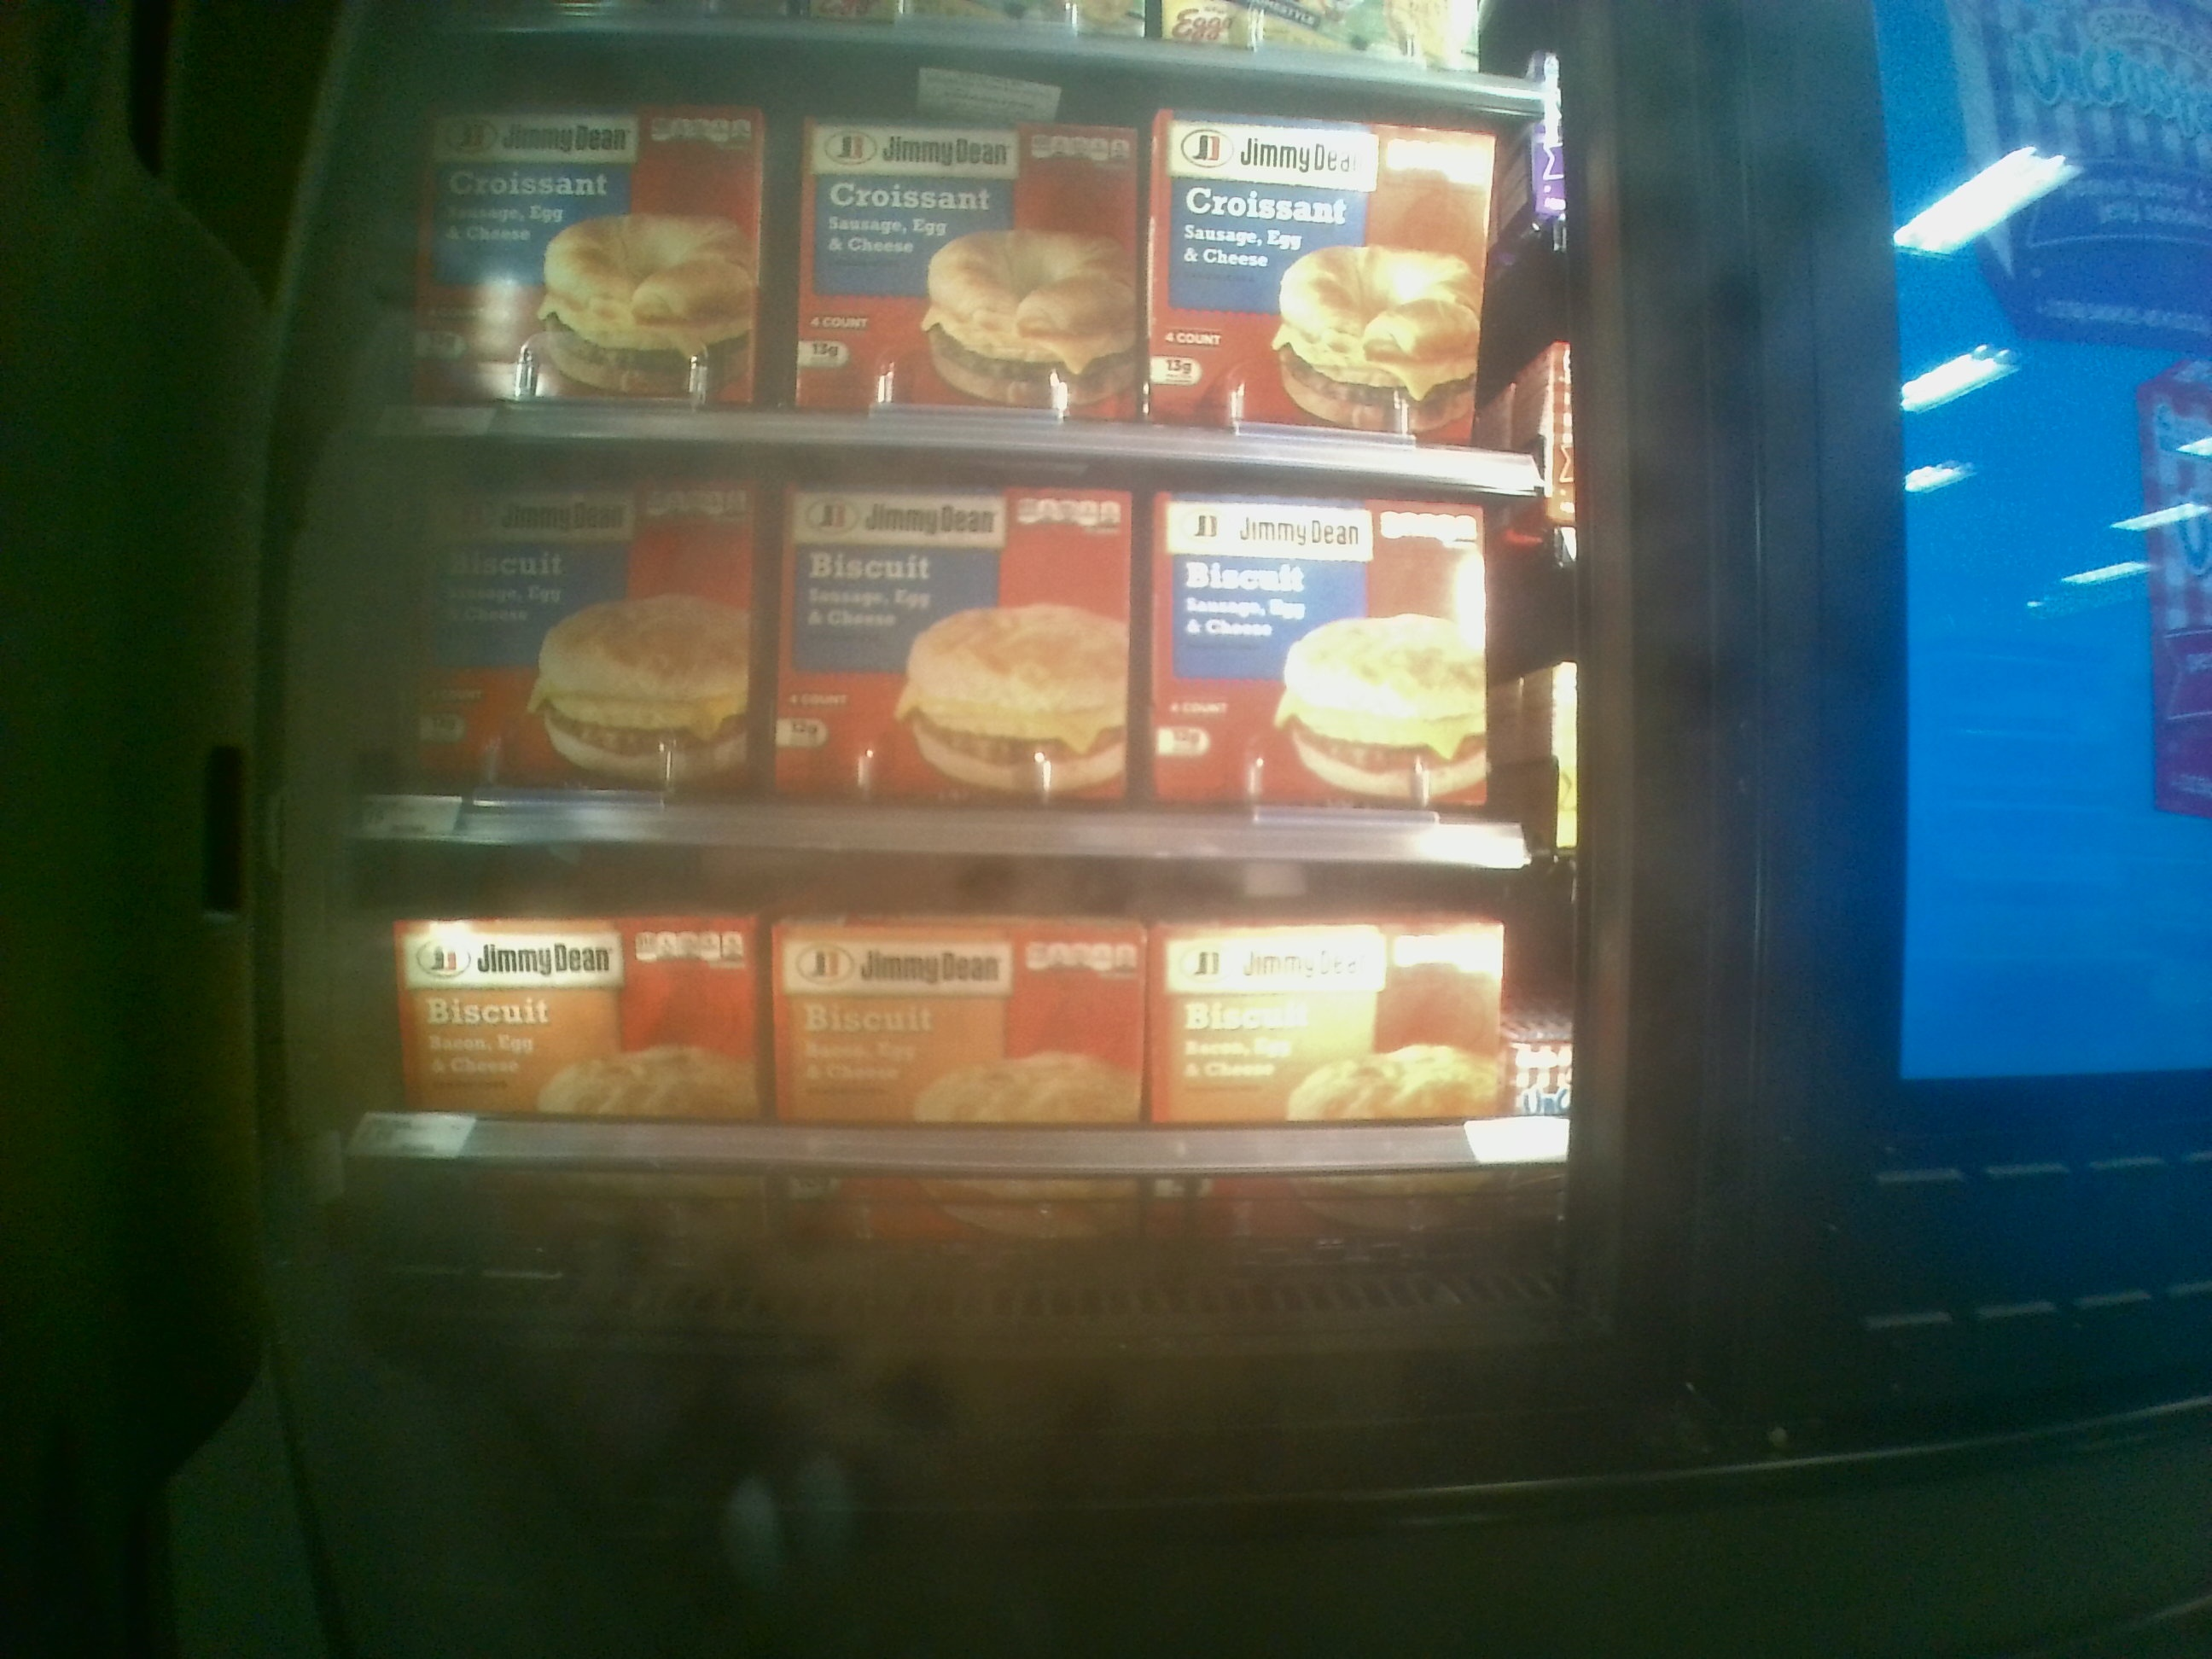shelf: (343, 843, 1576, 1288), (354, 437, 1550, 870)
